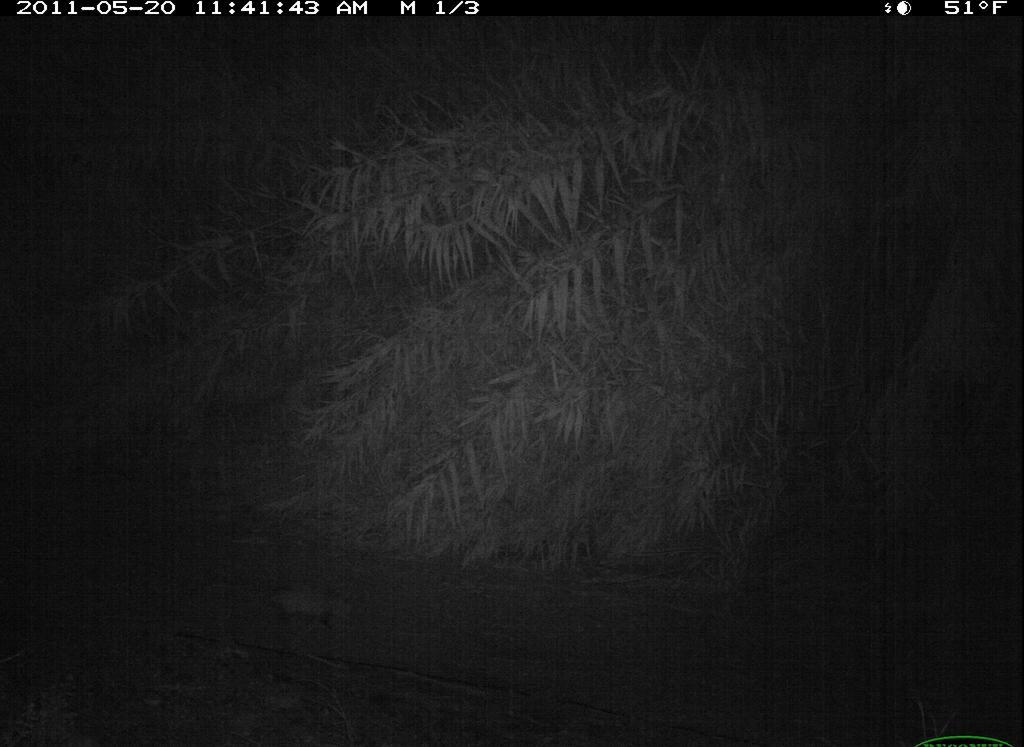opossum: (242, 569, 370, 643)
